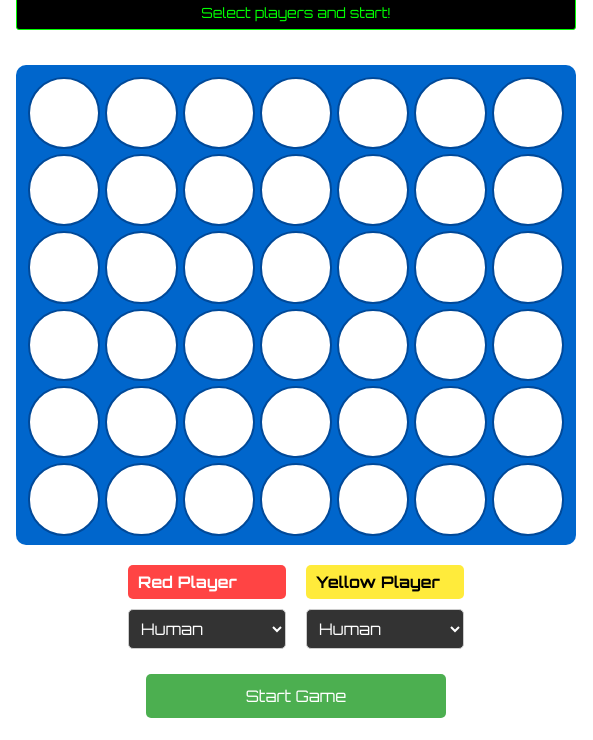
Test: Board Component › shows current player status
The width and height of the screenshot is (593, 740).
(page scrolled)
What coordinates should you click on to do the following:
click the button "Start Game"
I would click on:
 (296, 696)
Its box is [146,674,446,718].
(page scrolled)
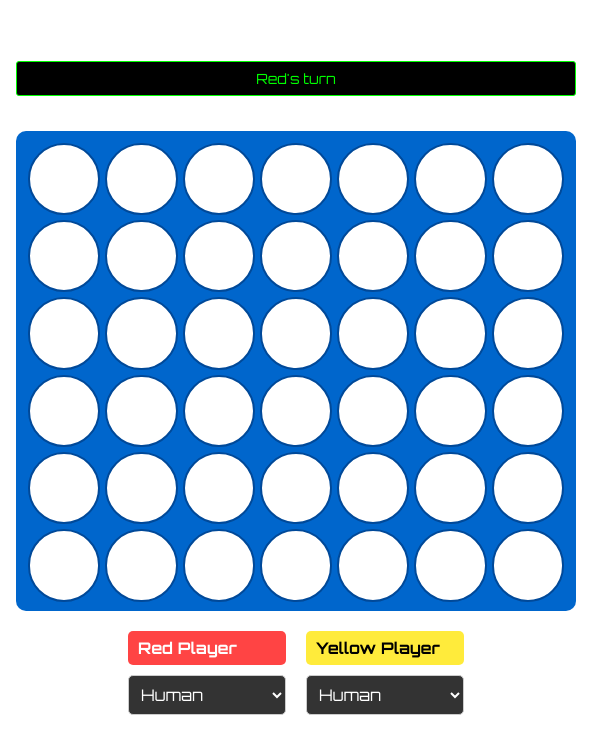
Result: the text with test id "game-status" reads "Red's turn" at [256,70,336,87]
